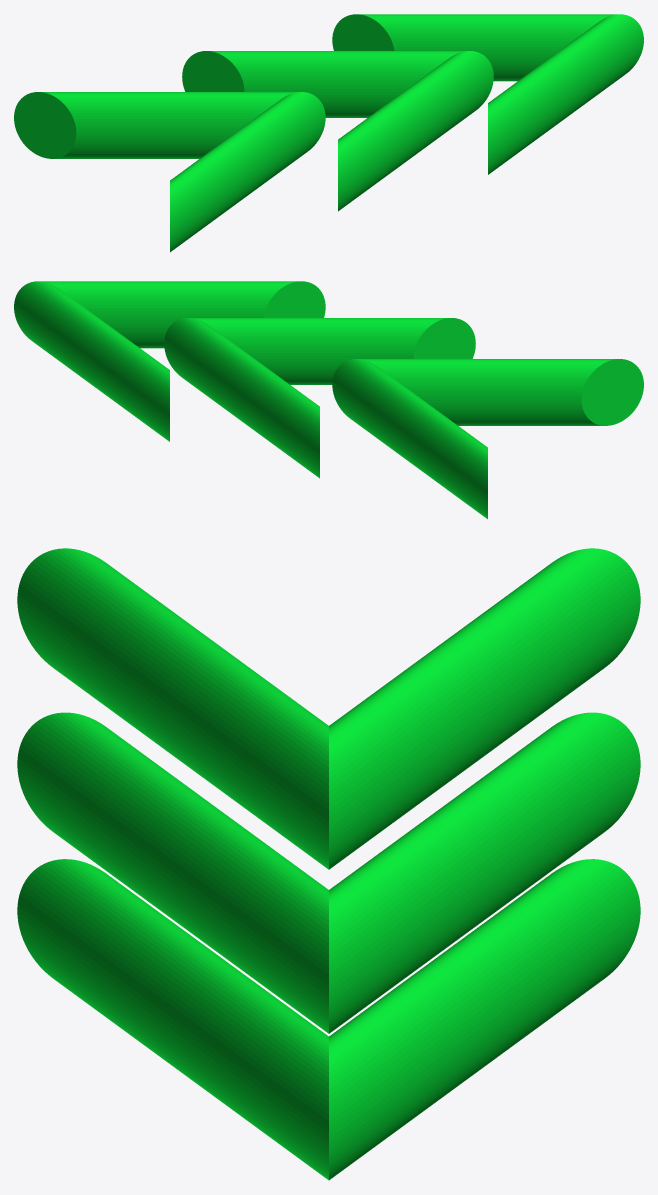
Rendered from hız simgesi.fbx.
3 renders of one model, top to bottom at view 1: azimuth 30°, elevation 25°; view 2: azimuth 150°, elevation 25°; view 3: azimuth 270°, elevation 25°, orthographic. The views are drawn at different scales.
Visible parts, largest first — view 1: hız simgesi; view 2: hız simgesi; view 3: hız simgesi.
Part boxes in pixels (x1=…): hız simgesi: x1=14, y1=14, x2=643, y2=252; hız simgesi: x1=14, y1=281, x2=643, y2=519; hız simgesi: x1=17, y1=548, x2=640, y2=1180.
Bounding box in the file's own units: 443 × 50 × 217.
